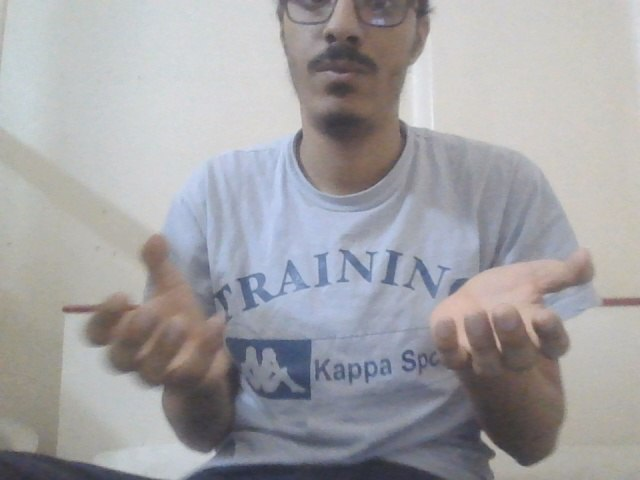What: (76, 233, 599, 390)
